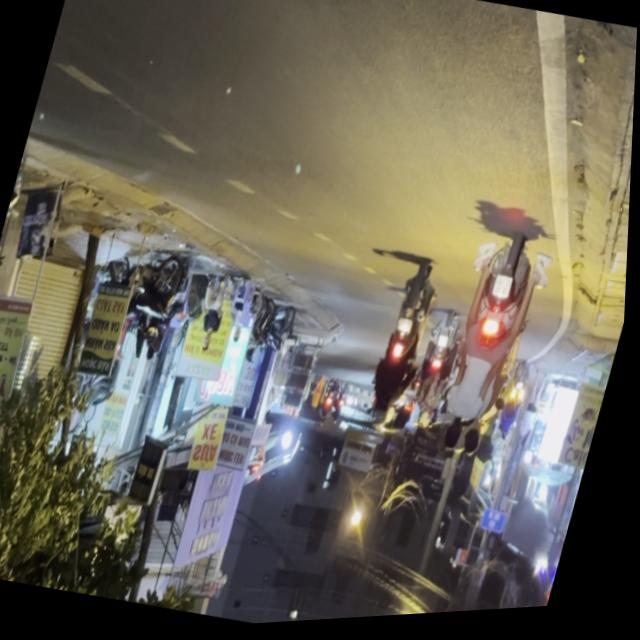licenseplate: (426, 229, 553, 477), (0, 135, 37, 354)
motorcyclist: (462, 421, 491, 464), (443, 421, 470, 461)
nohelmet: (492, 281, 515, 307)
